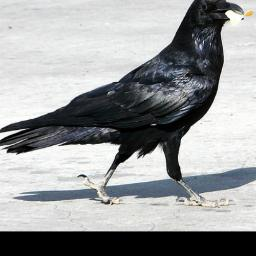Crow: (0, 0, 252, 210)
